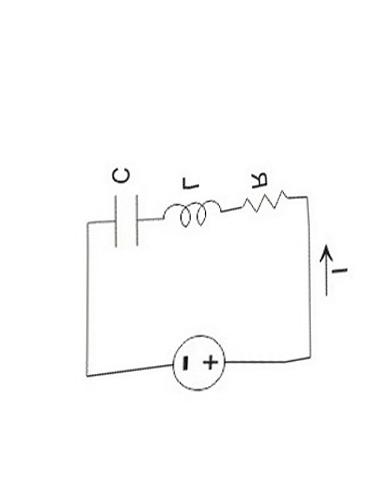Battery: (151, 325, 236, 398)
